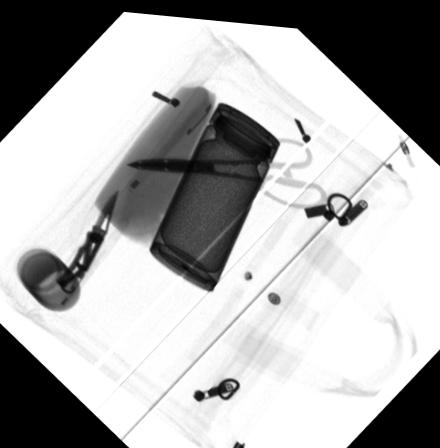Knife: (54, 186, 119, 295)
Scissors: (126, 130, 329, 206)
